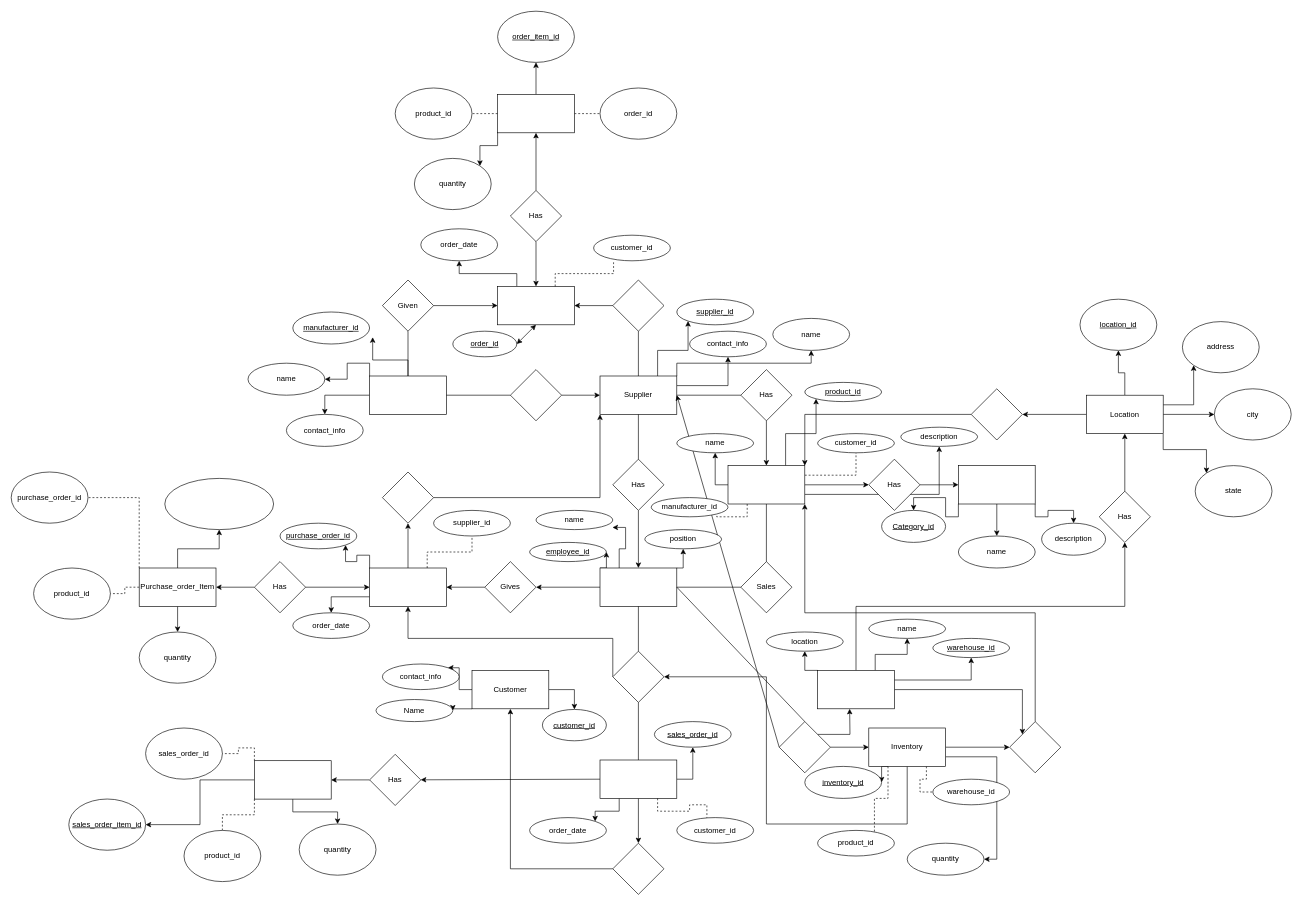
This 1302x906 diagram has some shape labels left out. The centre of each missing label's shape, as x and y in pixels:
Category: (x=996, y=484)
Employee: (x=638, y=586)
From: (x=638, y=868)
manages: (x=804, y=747)
Manufacturer: (x=407, y=394)
of: (x=996, y=414)
Order_item: (x=535, y=113)
Orders: (x=535, y=305)
Places: (x=638, y=305)
Product: (x=766, y=484)
Purchase_Order: (x=407, y=586)
purchase_order_item_id: (x=219, y=504)
Sales_Order: (x=638, y=778)
Sales_Order_item: (x=292, y=779)
Stores: (x=1035, y=747)
Supplies: (x=536, y=395)
Takes: (x=638, y=676)
To: (x=408, y=497)
Warehouse: (x=855, y=689)
